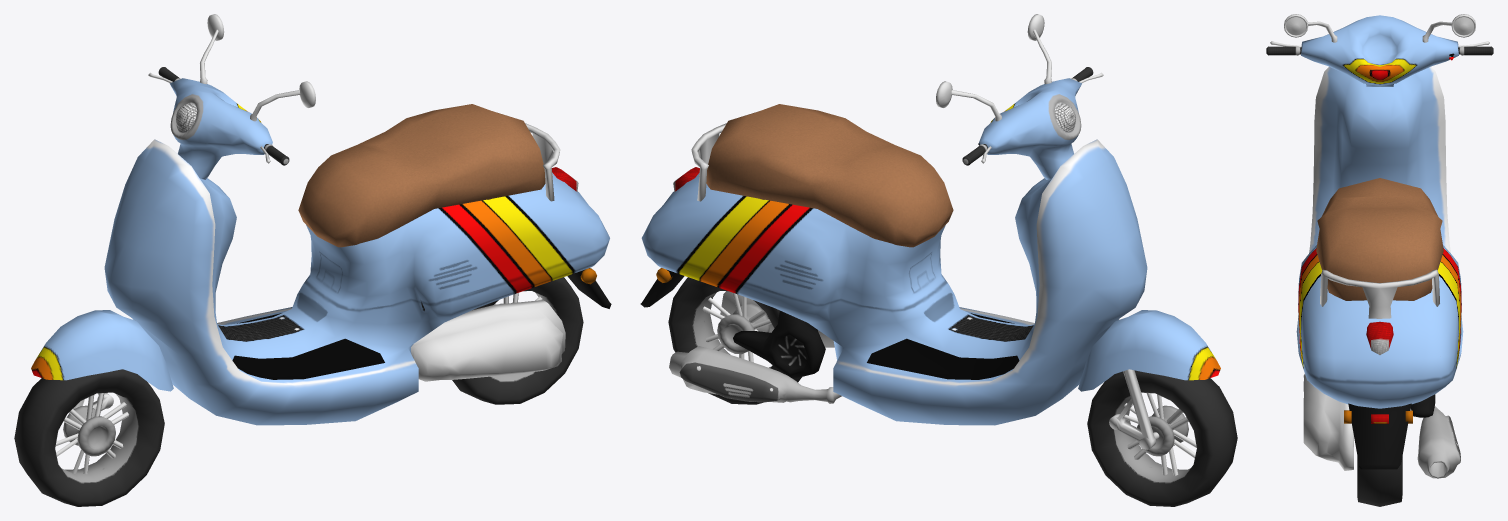
File: simplescooter_scooterblue.fbx
3 renders of one model, left to right at view 1: azimuth 30°, elevation 25°; view 2: azimuth 150°, elevation 25°; view 3: azimuth 270°, elevation 25°, orthographic. The views are drawn at different scales.
Parts seen in each view (by area): view 1: lowpolybase, lowpolybase.001, wheellowpoly, moteurlowpoly, devantrouelowpoly, devantlowpoly, wheellowpoly.001, tapislowpoly, derrierelowpoly, retrolowpoly.001; view 2: lowpolybase, lowpolybase.001, wheellowpoly, devantrouelowpoly, devantlowpoly, wheellowpoly.001, echaplowpoly, tapislowpoly, ventilolowpoly, Cylinder.001, derrierelowpoly, retrolowpoly; view 3: lowpolybase, lowpolybase.001, devantlowpoly, moteurlowpoly, trucderrirerelowpoly, echaplowpoly, derrierelowpoly, wheellowpoly.001, Plane, retrolowpoly, retrolowpoly.001, ventilolowpoly (+2 smaller).
Part boxes in pixels (box(x1,y1,x2,y2)): lowpolybase: box(104, 139, 609, 425); lowpolybase.001: box(298, 104, 545, 247); wheellowpoly: box(14, 369, 164, 506); moteurlowpoly: box(411, 300, 565, 381); devantrouelowpoly: box(31, 310, 173, 391); devantlowpoly: box(169, 78, 272, 179); wheellowpoly.001: box(452, 277, 583, 404); tapislowpoly: box(232, 313, 384, 379); derrierelowpoly: box(525, 123, 560, 201); retrolowpoly.001: box(250, 81, 315, 121); lowpolybase: box(641, 139, 1147, 425); lowpolybase.001: box(706, 104, 953, 247); wheellowpoly: box(1087, 370, 1237, 506); devantrouelowpoly: box(1078, 310, 1220, 391); devantlowpoly: box(979, 78, 1081, 179); wheellowpoly.001: box(668, 277, 817, 404); echaplowpoly: box(669, 346, 841, 403); tapislowpoly: box(867, 313, 1019, 379); ventilolowpoly: box(733, 310, 825, 378); Cylinder.001: box(1109, 369, 1159, 449); derrierelowpoly: box(691, 123, 726, 201); retrolowpoly: box(936, 81, 1001, 121); lowpolybase: box(1296, 66, 1463, 408); lowpolybase.001: box(1316, 178, 1443, 300); devantlowpoly: box(1301, 15, 1458, 86); moteurlowpoly: box(1303, 374, 1353, 470); trucderrirerelowpoly: box(1348, 403, 1411, 469); echaplowpoly: box(1417, 406, 1460, 478); derrierelowpoly: box(1320, 269, 1439, 318); wheellowpoly.001: box(1357, 456, 1402, 506); Plane: box(1366, 321, 1393, 354); retrolowpoly: box(1422, 14, 1475, 42); retrolowpoly.001: box(1284, 14, 1337, 42); ventilolowpoly: box(1411, 394, 1435, 417).
Size of the model in its own units: 372 by 252 by 138.
Materials: 1 (1 with a texture image).
